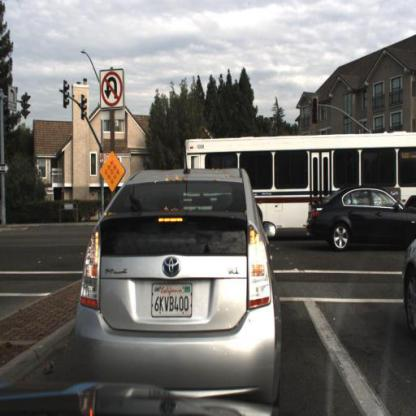car: (69, 157, 283, 398), (173, 122, 416, 246), (308, 187, 416, 256), (397, 215, 416, 352)
trafficLight-Red: (310, 91, 321, 127)
truck: (183, 131, 416, 233)
